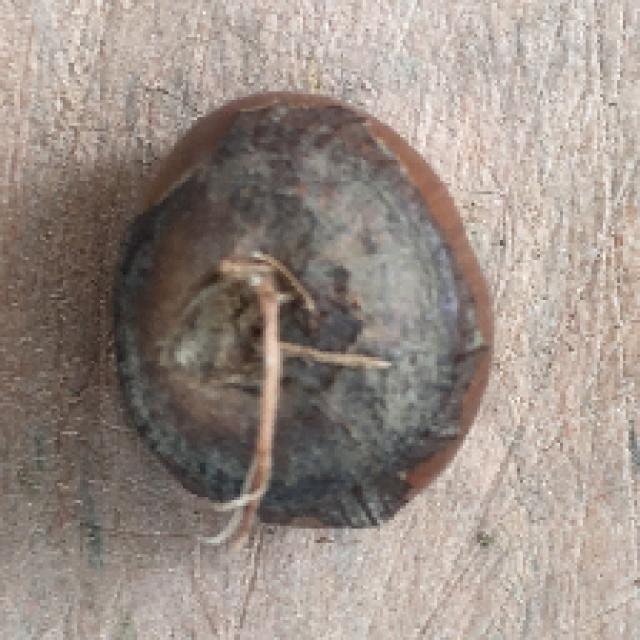damagedHazelnut: (119, 80, 493, 536)
